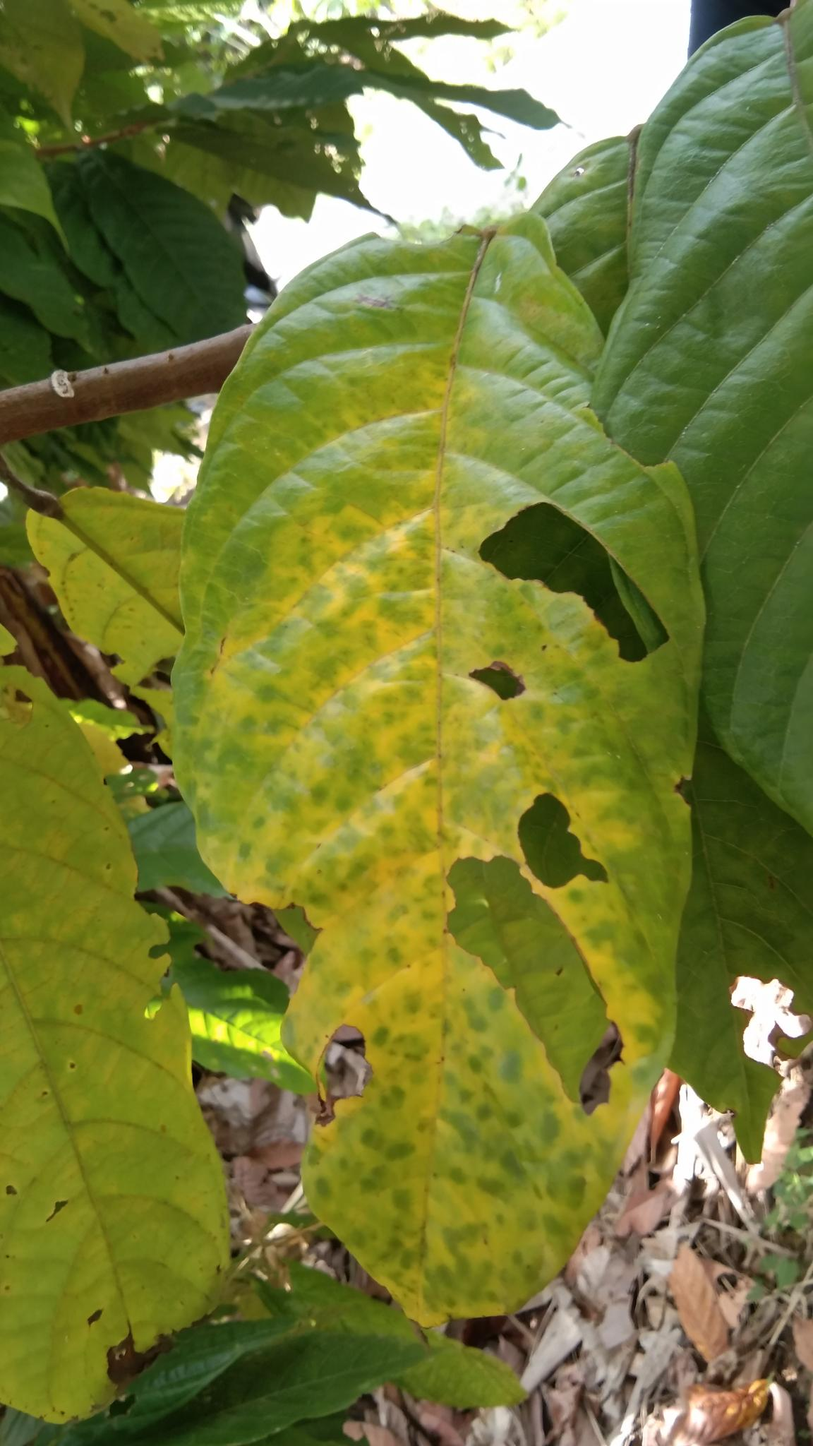Fosforo: (138, 184, 726, 1425)
